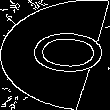O_E: (5, 29, 105, 81)
